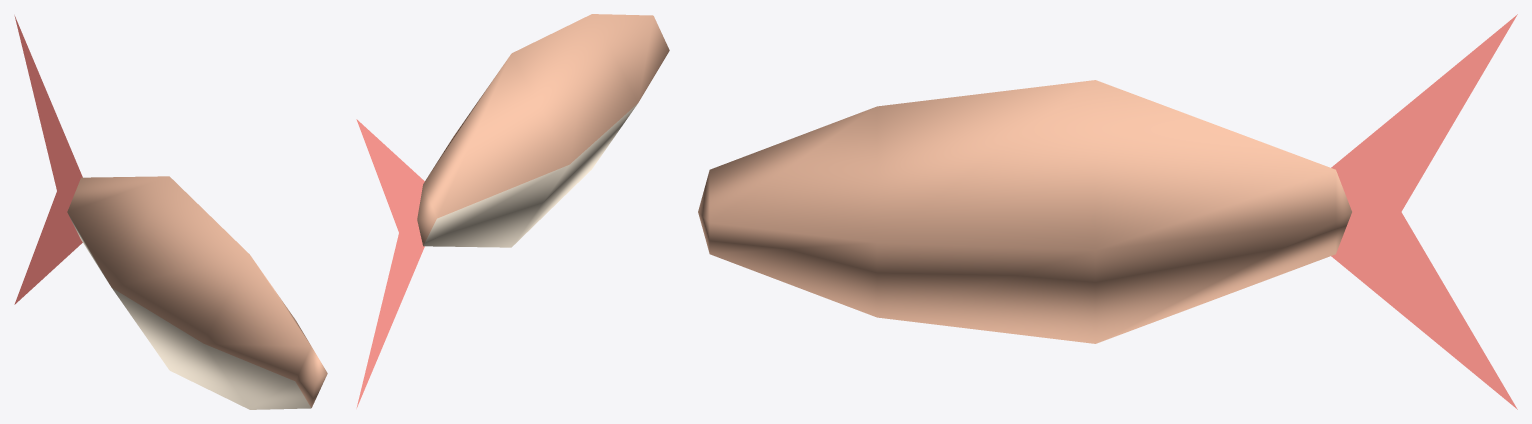
The model's file is fish_a_far.glb.
3 views of the same model, side by side, from view 1: azimuth 30°, elevation 25°; view 2: azimuth 150°, elevation 25°; view 3: azimuth 270°, elevation 25° (orthographic). The views are drawn at different scales.
Parts seen in each view (by area): view 1: fish_a_far; view 2: fish_a_far; view 3: fish_a_far.
Boxes of the visible parts, x1=… form: fish_a_far: x1=14, y1=15, x2=327, y2=409; fish_a_far: x1=356, y1=14, x2=669, y2=408; fish_a_far: x1=698, y1=14, x2=1517, y2=409.
Bounding box in the file's own units: 0.08 × 0.192 × 0.3603.
